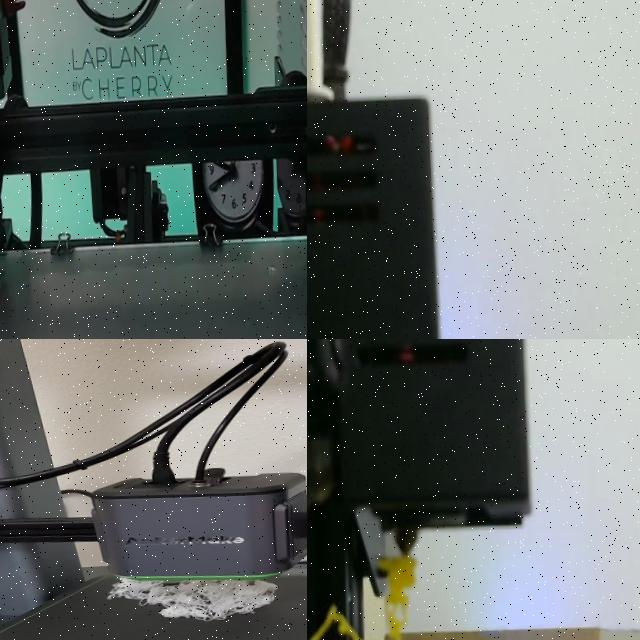spaghetti: (106, 569, 290, 627)
